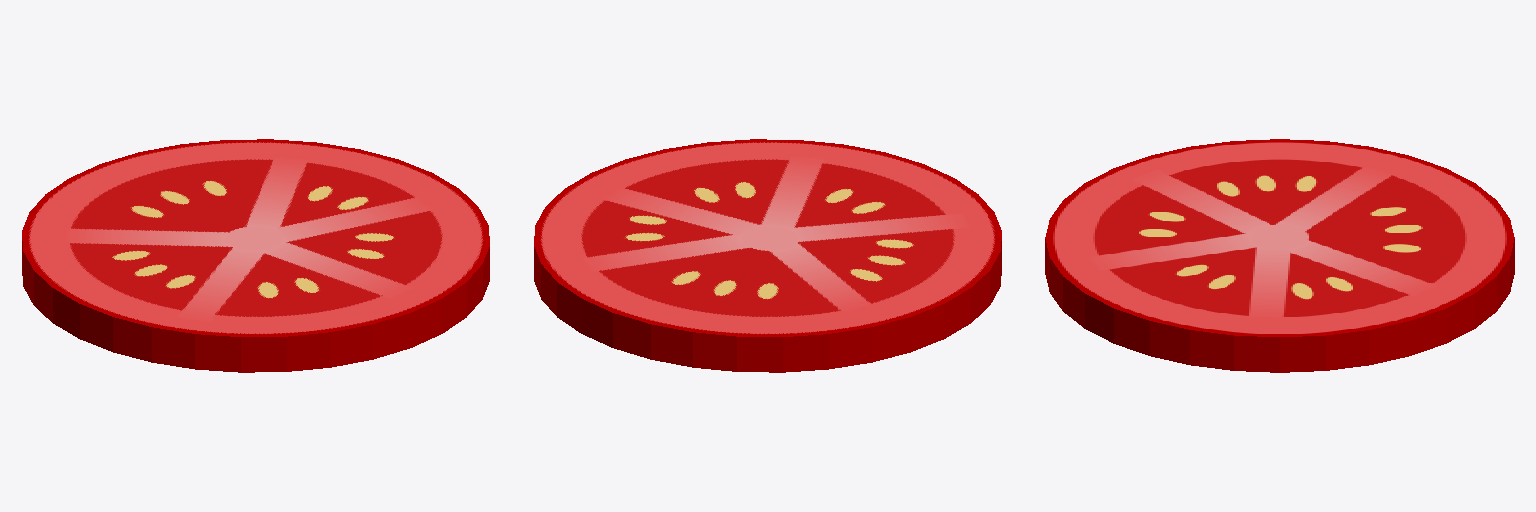
The picture shows the model from 3 angles: view 1: azimuth 30°, elevation 25°; view 2: azimuth 150°, elevation 25°; view 3: azimuth 270°, elevation 25°; orthographic projection.
Parts seen in each view (by area): view 1: Cylinder; view 2: Cylinder; view 3: Cylinder.
Part boxes in pixels (x1,y1,x2,y2): Cylinder: (22,139,489,372); Cylinder: (534,139,1001,372); Cylinder: (1045,139,1514,372).
Bounding box in the file's own units: 0.6 × 0.05 × 0.6.
Materials: 1 (1 with a texture image).